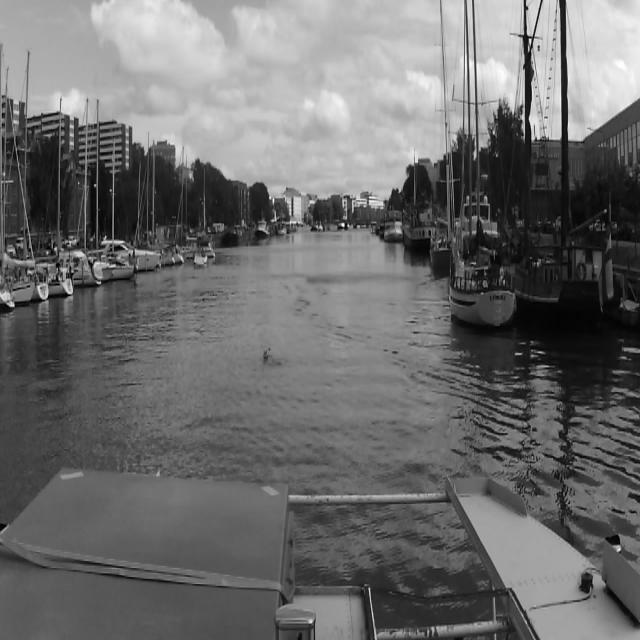ship: (515, 0, 625, 344), (448, 0, 514, 338), (6, 30, 49, 308), (133, 132, 187, 266), (72, 76, 101, 288), (46, 100, 74, 308), (105, 136, 136, 288), (405, 198, 427, 255), (384, 208, 400, 242), (257, 221, 269, 242)
